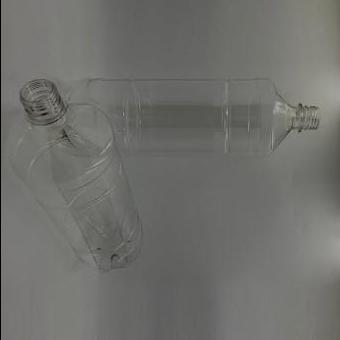bottle: (8, 78, 144, 273), (84, 78, 318, 161)
